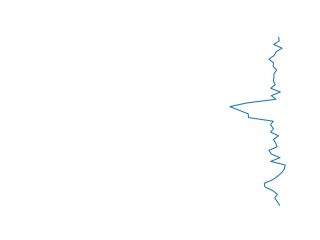interdistributaryEstuary: (225, 36, 291, 206)
